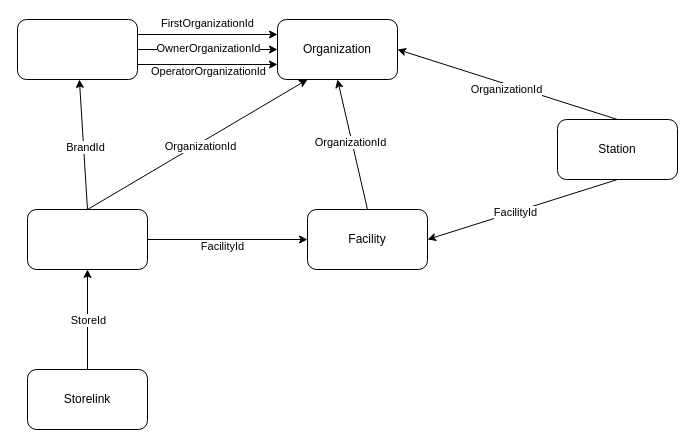
The diagram is 695 pixels wide and 447 high, and some of its shapes have lost their labels. The centre of each missing label's shape, as x and y in pixels:
"Brand" goes at [77,49].
"Store" goes at [87,239].
